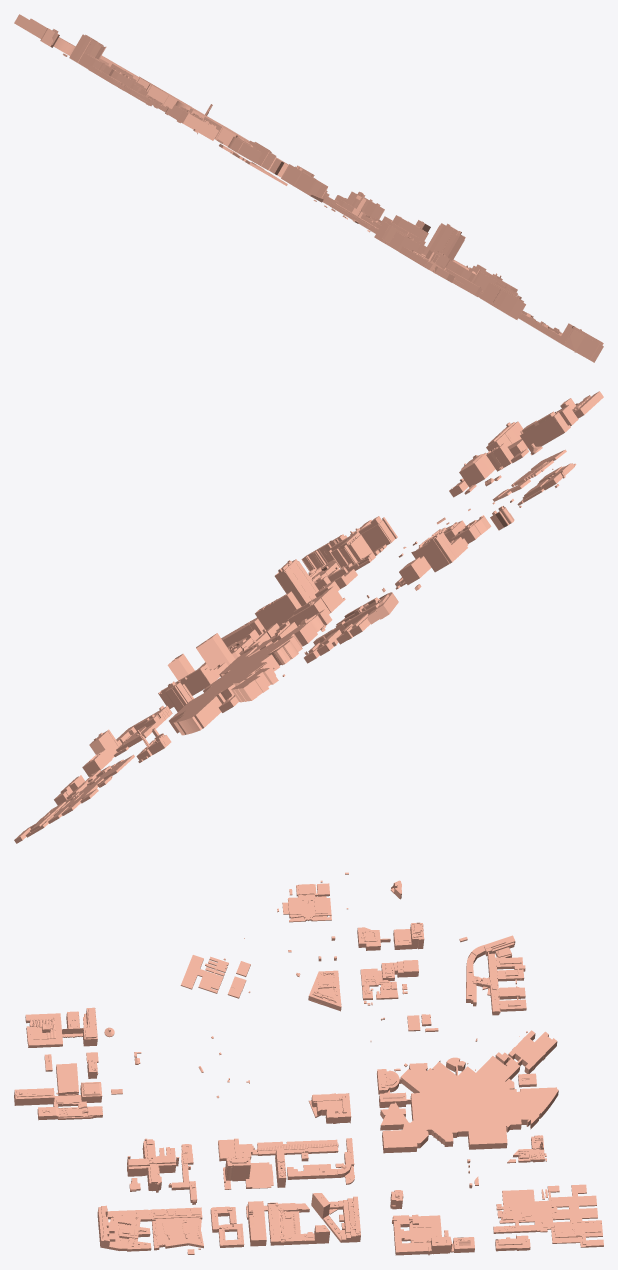
3 renders of one model, top to bottom at view 1: azimuth 30°, elevation 25°; view 2: azimuth 150°, elevation 25°; view 3: azimuth 270°, elevation 25°, orthographic. The views are drawn at different scales.
Size of the model in its own units: 821 by 611 by 1354.
